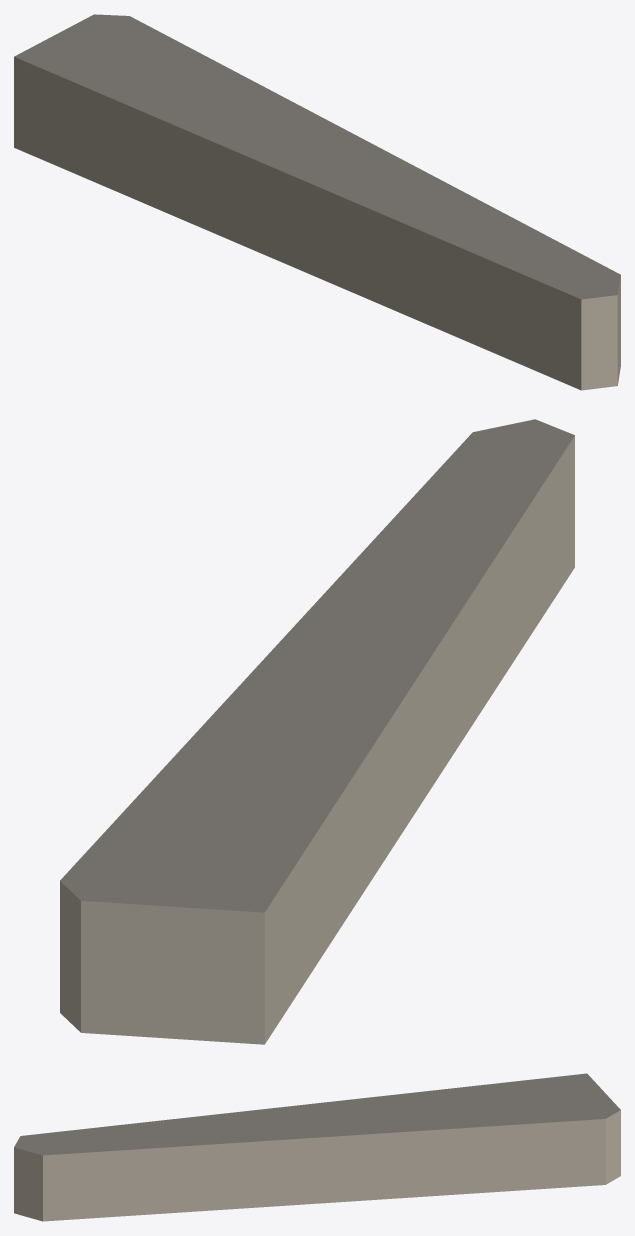
3 renders of one model, top to bottom at view 1: azimuth 30°, elevation 25°; view 2: azimuth 150°, elevation 25°; view 3: azimuth 270°, elevation 25°, orthographic. The views are drawn at different scales.
Visible parts, largest first — view 1: HP-w378107242; view 2: HP-w378107242; view 3: HP-w378107242.
Part boxes in pixels (x1,y1,x2,y2): HP-w378107242: (14, 14, 620, 390); HP-w378107242: (60, 419, 574, 1044); HP-w378107242: (14, 1073, 620, 1221).
Bounding box in the file's own units: 31.98 × 12 × 99.97.
